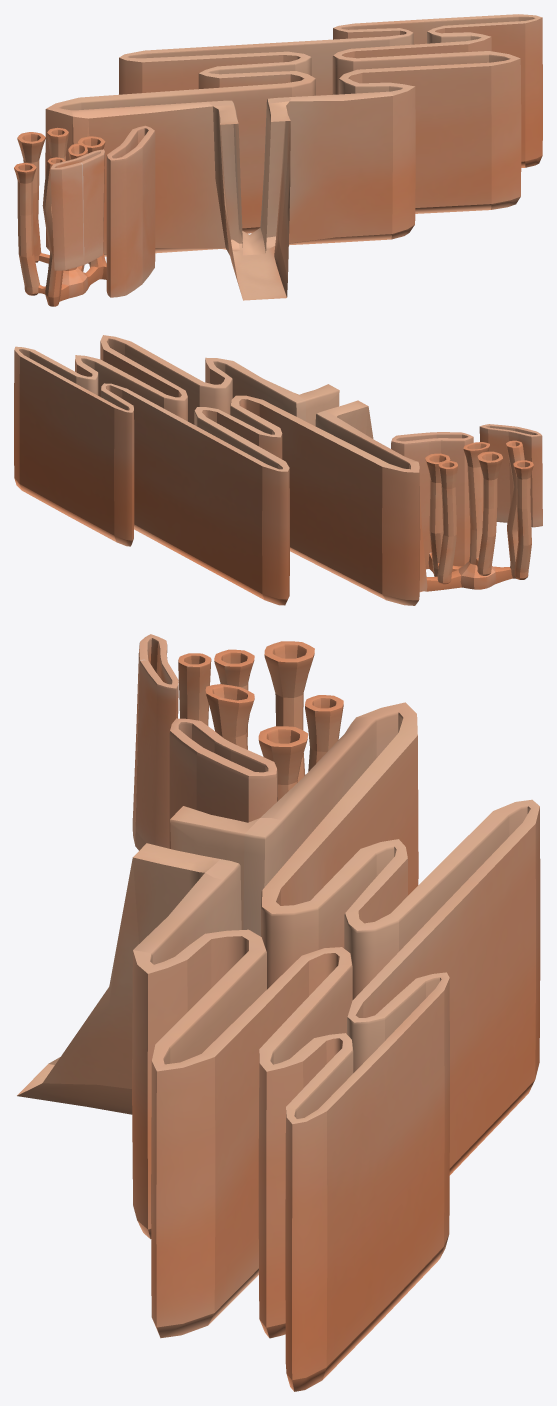
File: SmoothEndoplasmic.fbx
3 renders of one model, top to bottom at view 1: azimuth 30°, elevation 25°; view 2: azimuth 150°, elevation 25°; view 3: azimuth 270°, elevation 25°, orthographic. The views are drawn at different scales.
Visible parts, largest first — view 1: polySurface46; view 2: polySurface46; view 3: polySurface46.
Part boxes in pixels (bbox=[...]): polySurface46: bbox=[14, 14, 542, 306]; polySurface46: bbox=[14, 335, 542, 605]; polySurface46: bbox=[17, 634, 540, 1391].
Size of the model in its own units: 7.14 by 1.91 by 3.22.
1 material, 1 textured.
